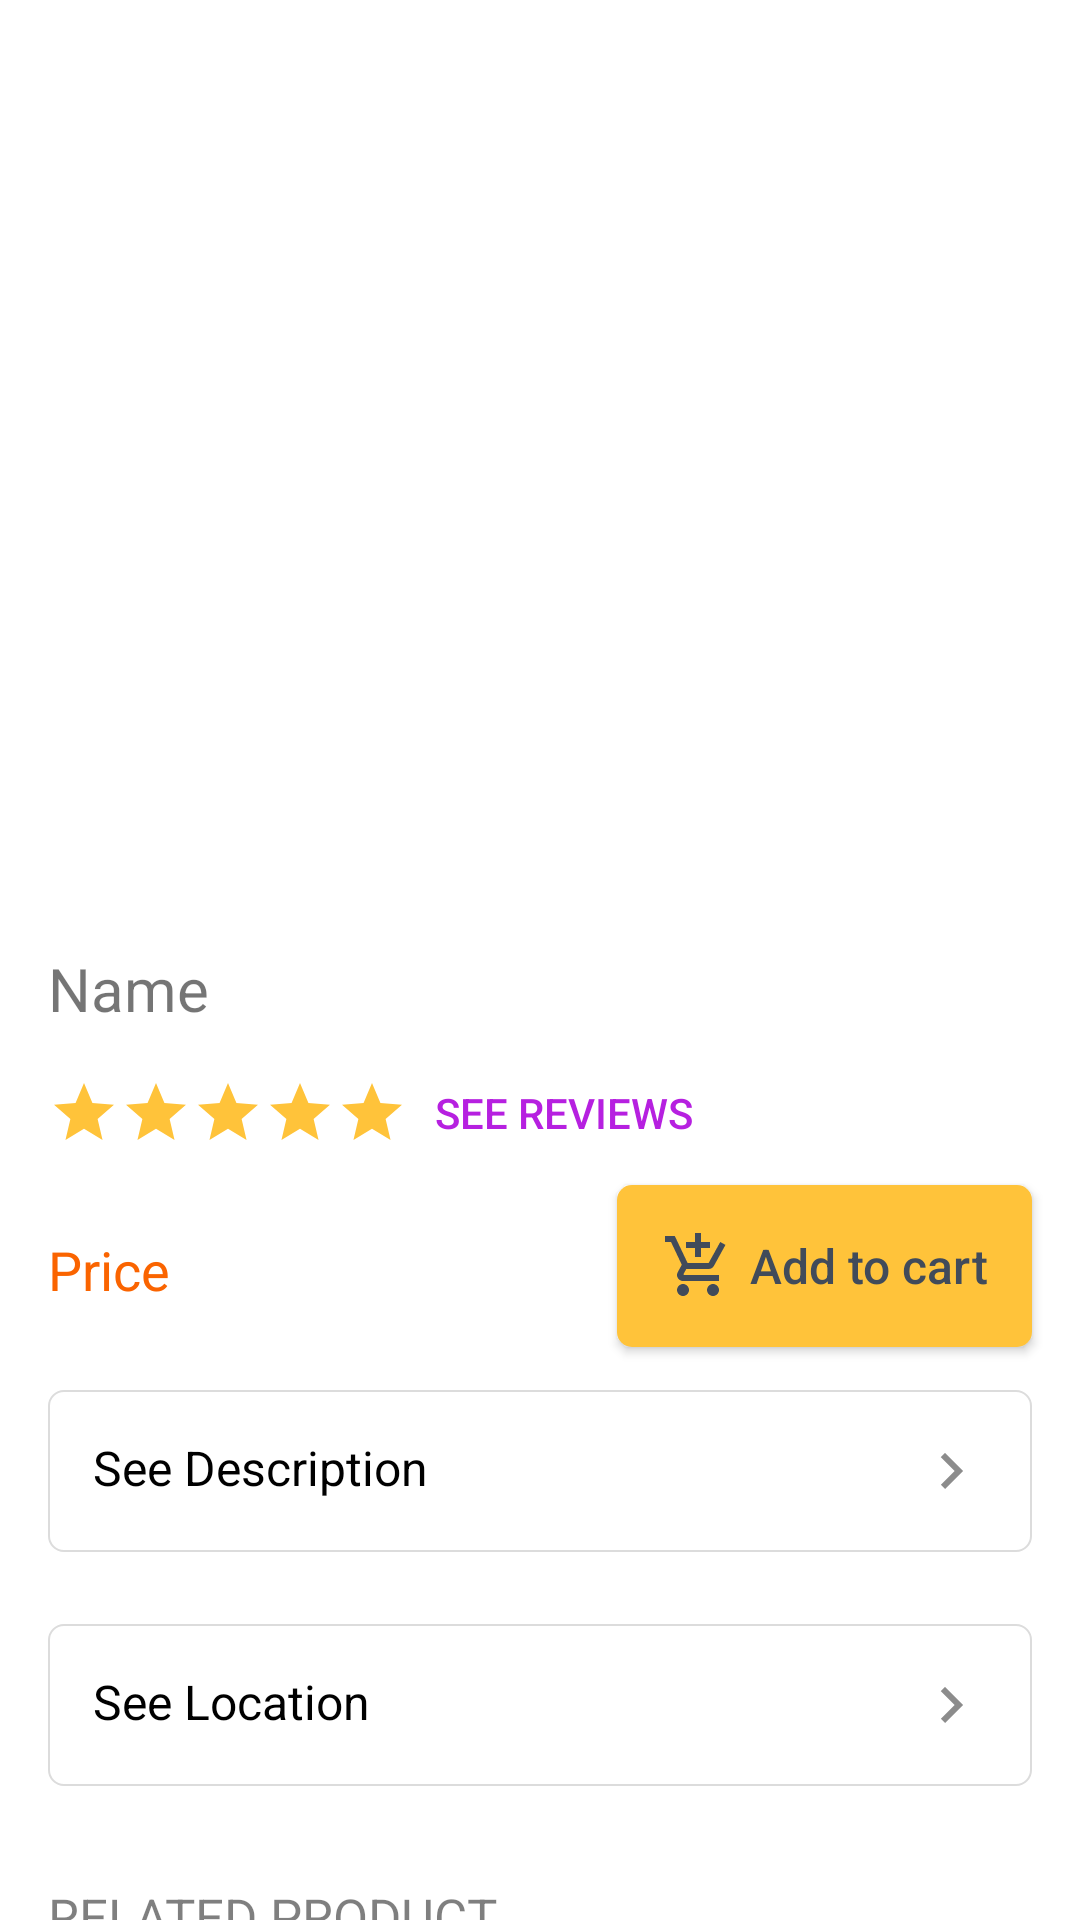

Icons on this 1080px x 1920px Android screen, each with its box as (x1, y1, x2, y2):
star: (54, 1083, 114, 1140), (126, 1083, 186, 1140), (198, 1083, 258, 1140), (270, 1083, 330, 1140), (342, 1083, 402, 1140)
